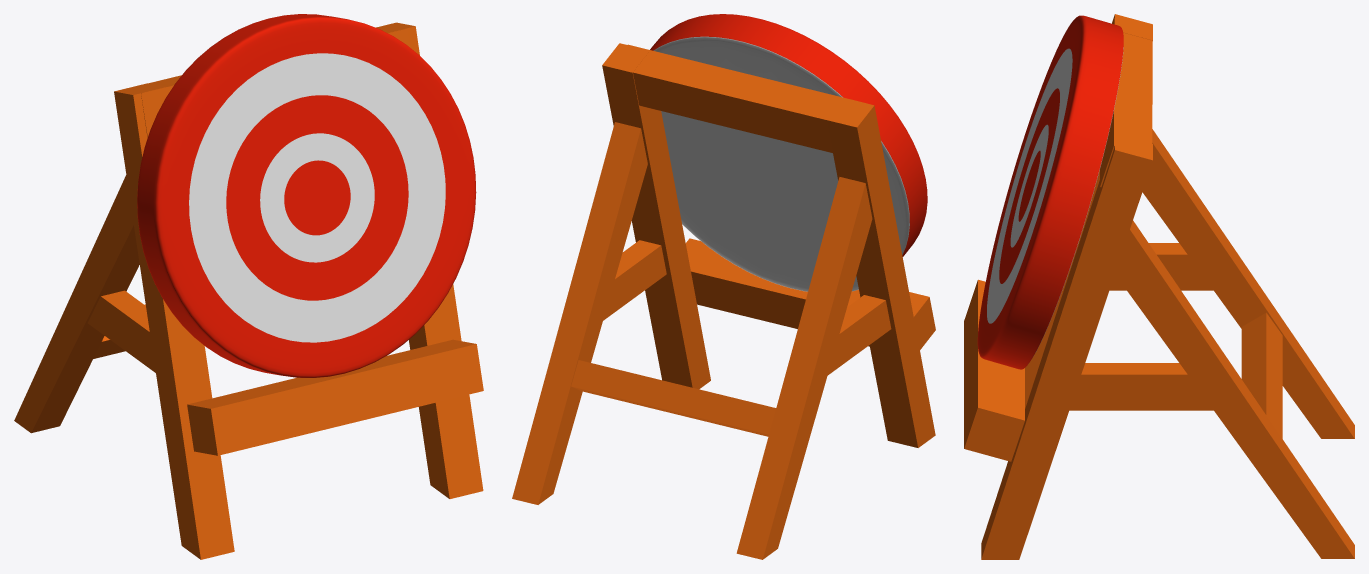
Rendered from target_sets.fbx.
3 views of the same model, side by side, from view 1: azimuth 30°, elevation 25°; view 2: azimuth 150°, elevation 25°; view 3: azimuth 270°, elevation 25° (orthographic). The views are drawn at different scales.
Parts seen in each view (by area): view 1: Cylinder.001, Cylinder; view 2: Cylinder, Cylinder.001; view 3: Cylinder, Cylinder.001.
Part boxes in pixels (x1=…): Cylinder.001: x1=137, y1=14, x2=476, y2=377; Cylinder: x1=14, y1=22, x2=483, y2=559; Cylinder: x1=512, y1=43, x2=935, y2=559; Cylinder.001: x1=650, y1=14, x2=927, y2=291; Cylinder: x1=964, y1=14, x2=1354, y2=559; Cylinder.001: x1=977, y1=15, x2=1123, y2=369.
Size of what is drawn, in the model's own units: 152 by 214 by 165.
